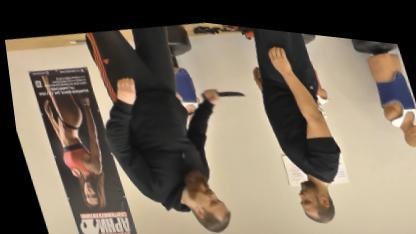knife: (194, 74, 248, 104)
